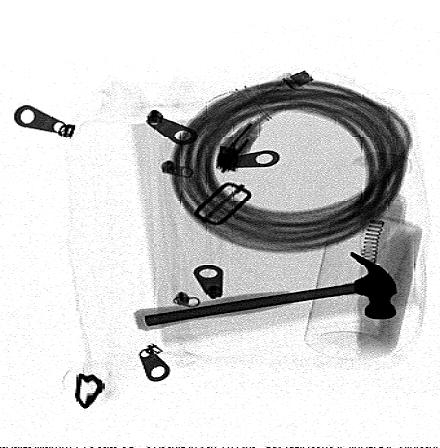Hammer: (133, 251, 398, 331)
